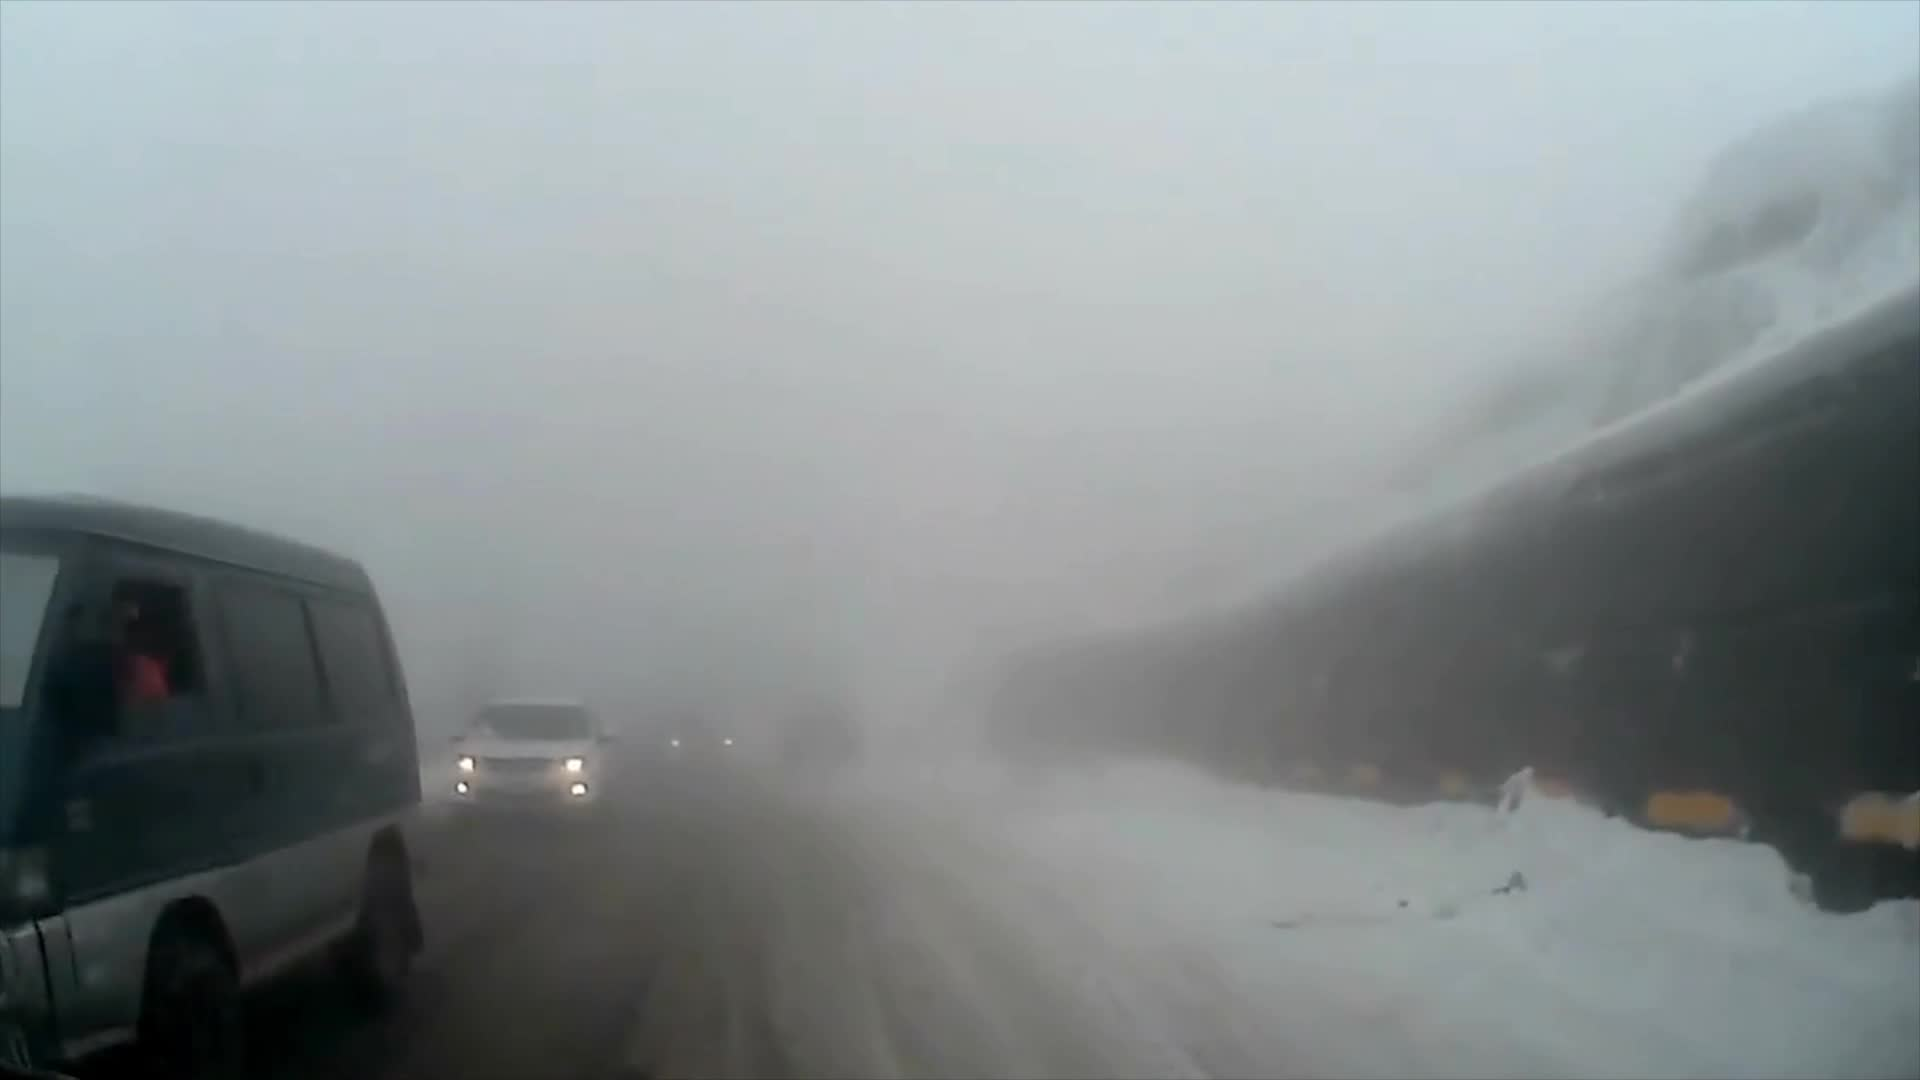vehicle: (0, 489, 427, 1080), (443, 694, 617, 829)
